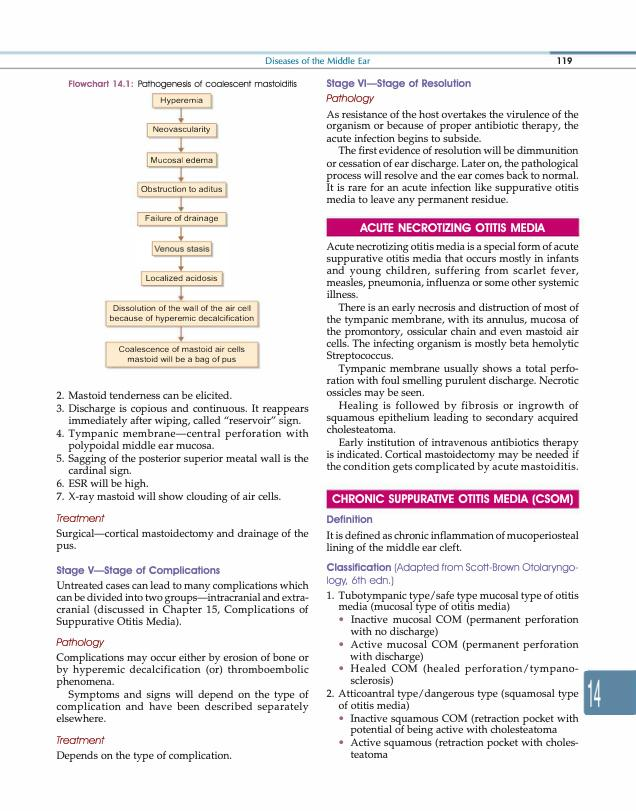caption: (67, 79, 298, 90)
header: (265, 55, 372, 66)
image: (100, 90, 265, 374)
list: (325, 590, 579, 761), (53, 388, 312, 506), (337, 614, 578, 686), (337, 712, 579, 759)
section-heading: (331, 493, 574, 507), (359, 222, 547, 233)
sub-section-heading: (325, 561, 579, 588), (56, 565, 220, 577), (326, 78, 472, 90), (54, 636, 106, 650), (325, 93, 375, 105), (56, 513, 106, 524), (56, 735, 106, 746), (326, 514, 373, 524)
text: (325, 241, 580, 475), (325, 108, 581, 207), (55, 652, 310, 723), (55, 579, 310, 629), (55, 527, 309, 553), (325, 530, 580, 555), (55, 749, 233, 763)
